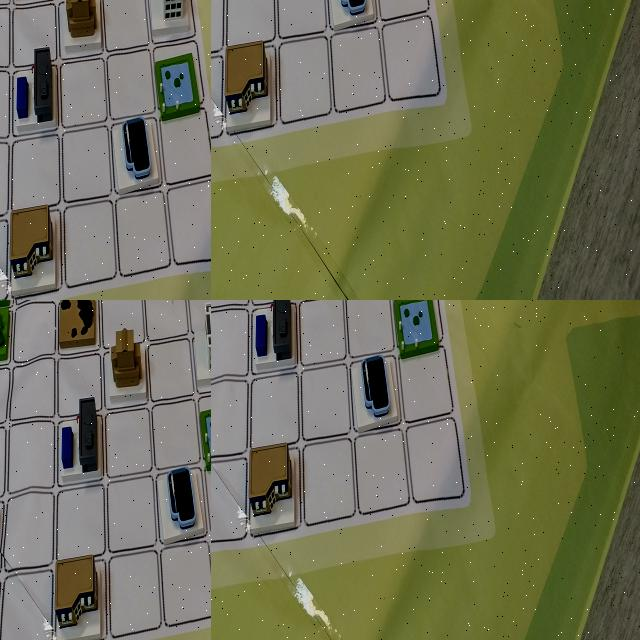bus_stop: (343, 76, 404, 174), (89, 410, 140, 499), (247, 300, 302, 377), (16, 271, 67, 300)
factory: (211, 383, 237, 476), (255, 0, 294, 42), (0, 189, 20, 248)
fish_pool: (393, 300, 446, 359), (167, 576, 211, 640), (211, 0, 255, 43)
forest: (65, 300, 121, 368), (489, 0, 537, 45), (0, 225, 20, 295), (211, 300, 234, 333)
gogo_shop: (348, 348, 403, 436), (115, 466, 164, 561), (389, 0, 443, 53)
research_build: (381, 300, 434, 343), (258, 0, 303, 36)
restaurant: (244, 441, 306, 541), (48, 459, 103, 554), (378, 0, 441, 51)
silicate_rock: (151, 324, 202, 410), (556, 0, 606, 47), (247, 300, 297, 338)
volunteer_center: (144, 421, 195, 507), (296, 300, 347, 341), (293, 0, 338, 43)
wet_land: (107, 562, 163, 640), (325, 0, 376, 53), (0, 151, 17, 213), (211, 300, 230, 329)
